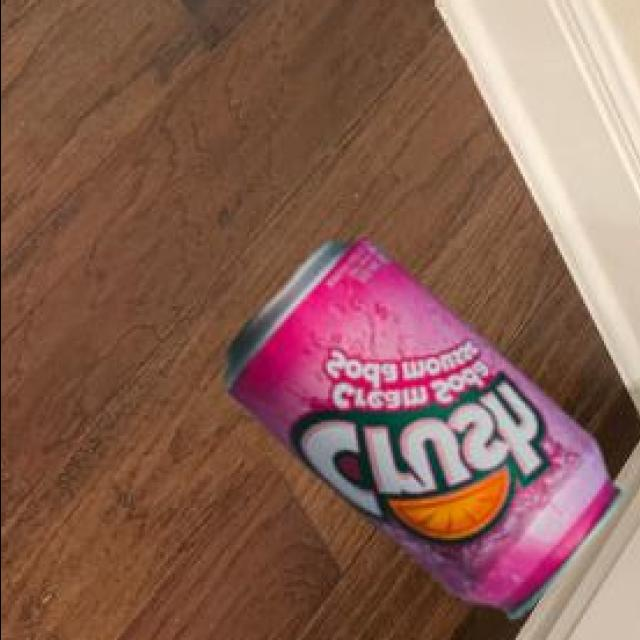logam: (228, 242, 625, 623)
